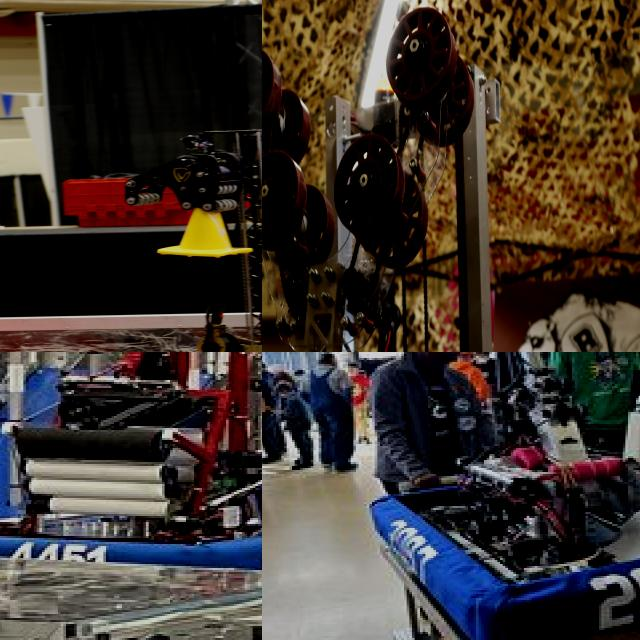FRC-Robots: (268, 352, 640, 632), (262, 0, 506, 352), (0, 352, 262, 577), (37, 109, 262, 352)
